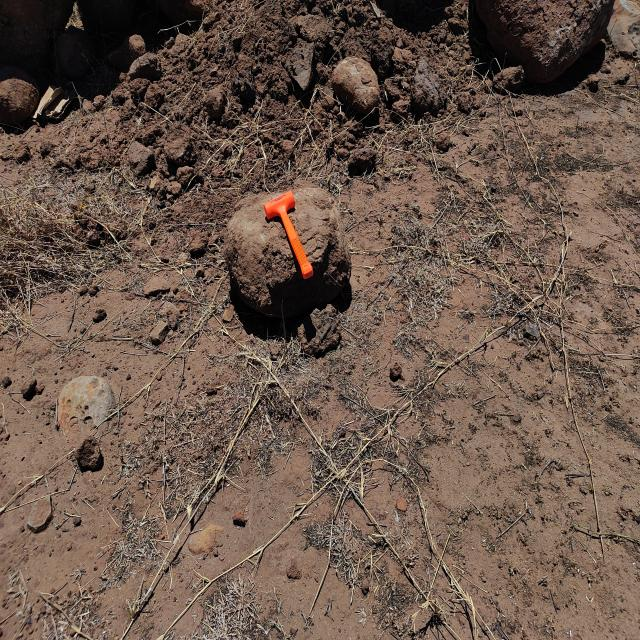Orange_hammer: (263, 189, 314, 281)
